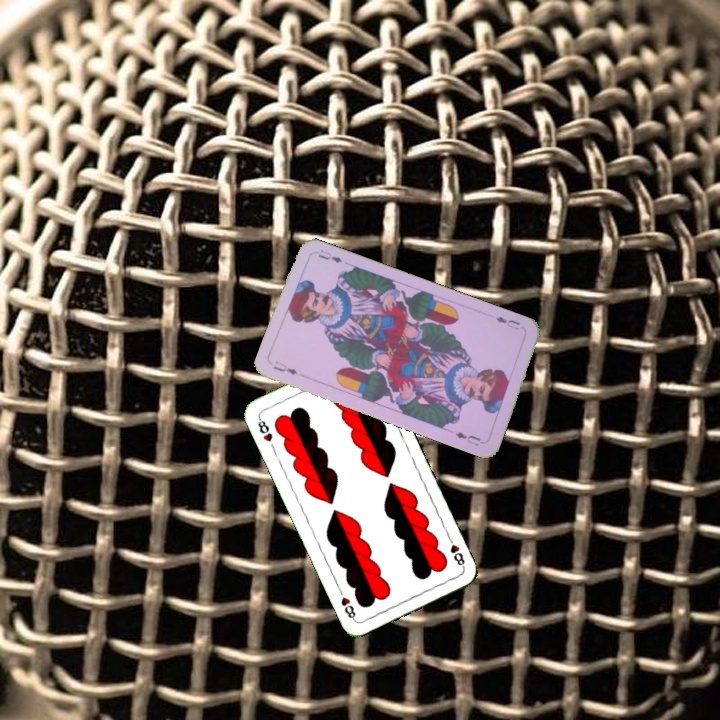EU: (492, 312, 523, 333), (269, 357, 300, 378)
H8: (444, 532, 467, 570), (254, 413, 275, 445)
